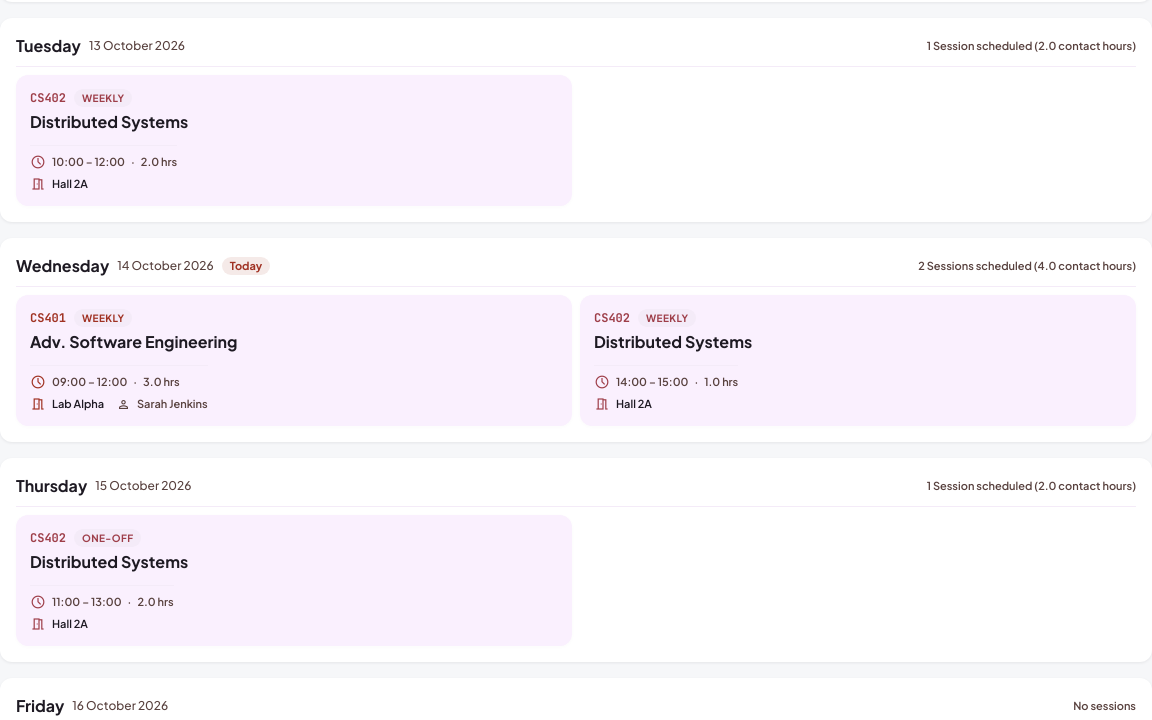
Scenario: student timetable › selecting a session fills the inspector, including the lecturer
(page scrolled)
Click the button with aria-label "Wednesday 09:00 to 12:00". click: (48, 318)
box: [16,295,572,426]
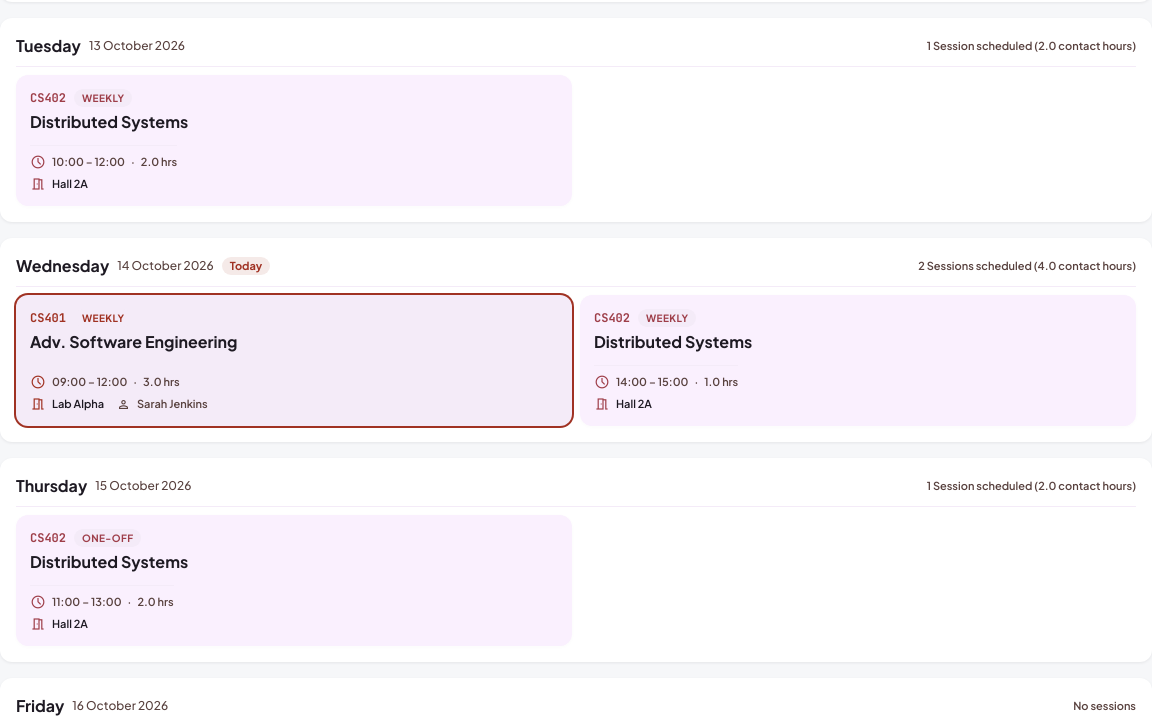
Click the button with aria-label "Thursday 11:00 to 13:00". click: (48, 538)
box: [16,515,572,646]
(page scrolled)
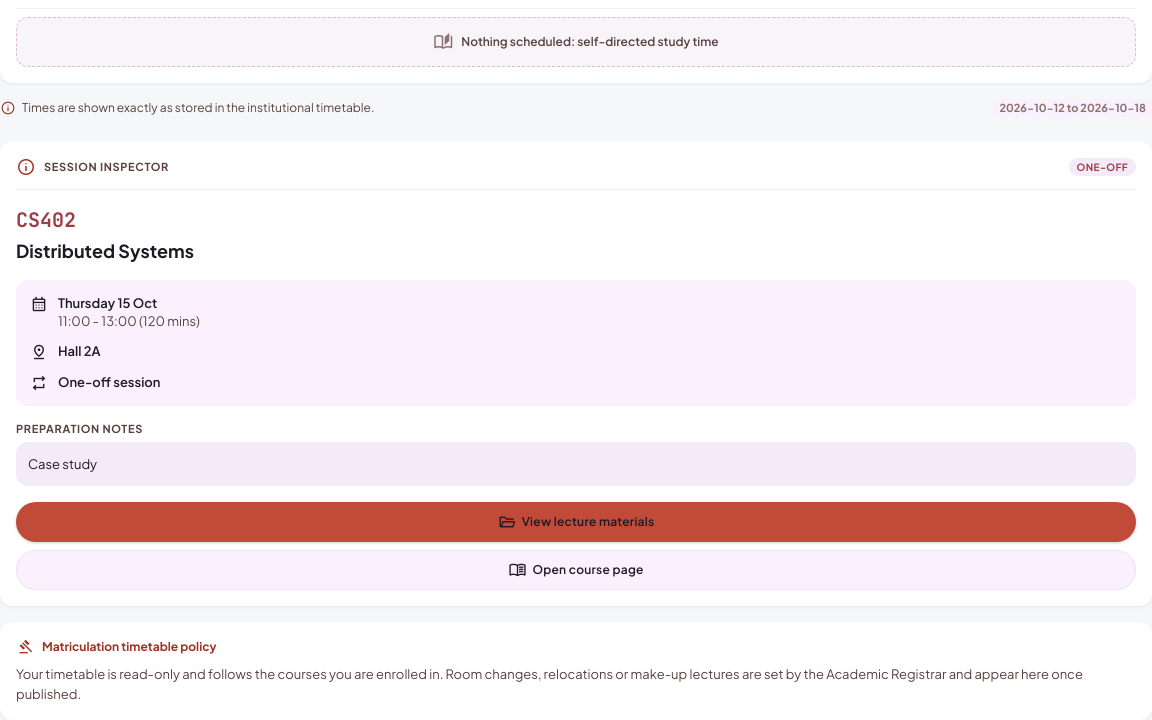
Check: the text "One-off session" is shown, box [58,373,160,391]
Check: the text "Case study" is shown, box [16,442,1136,486]
